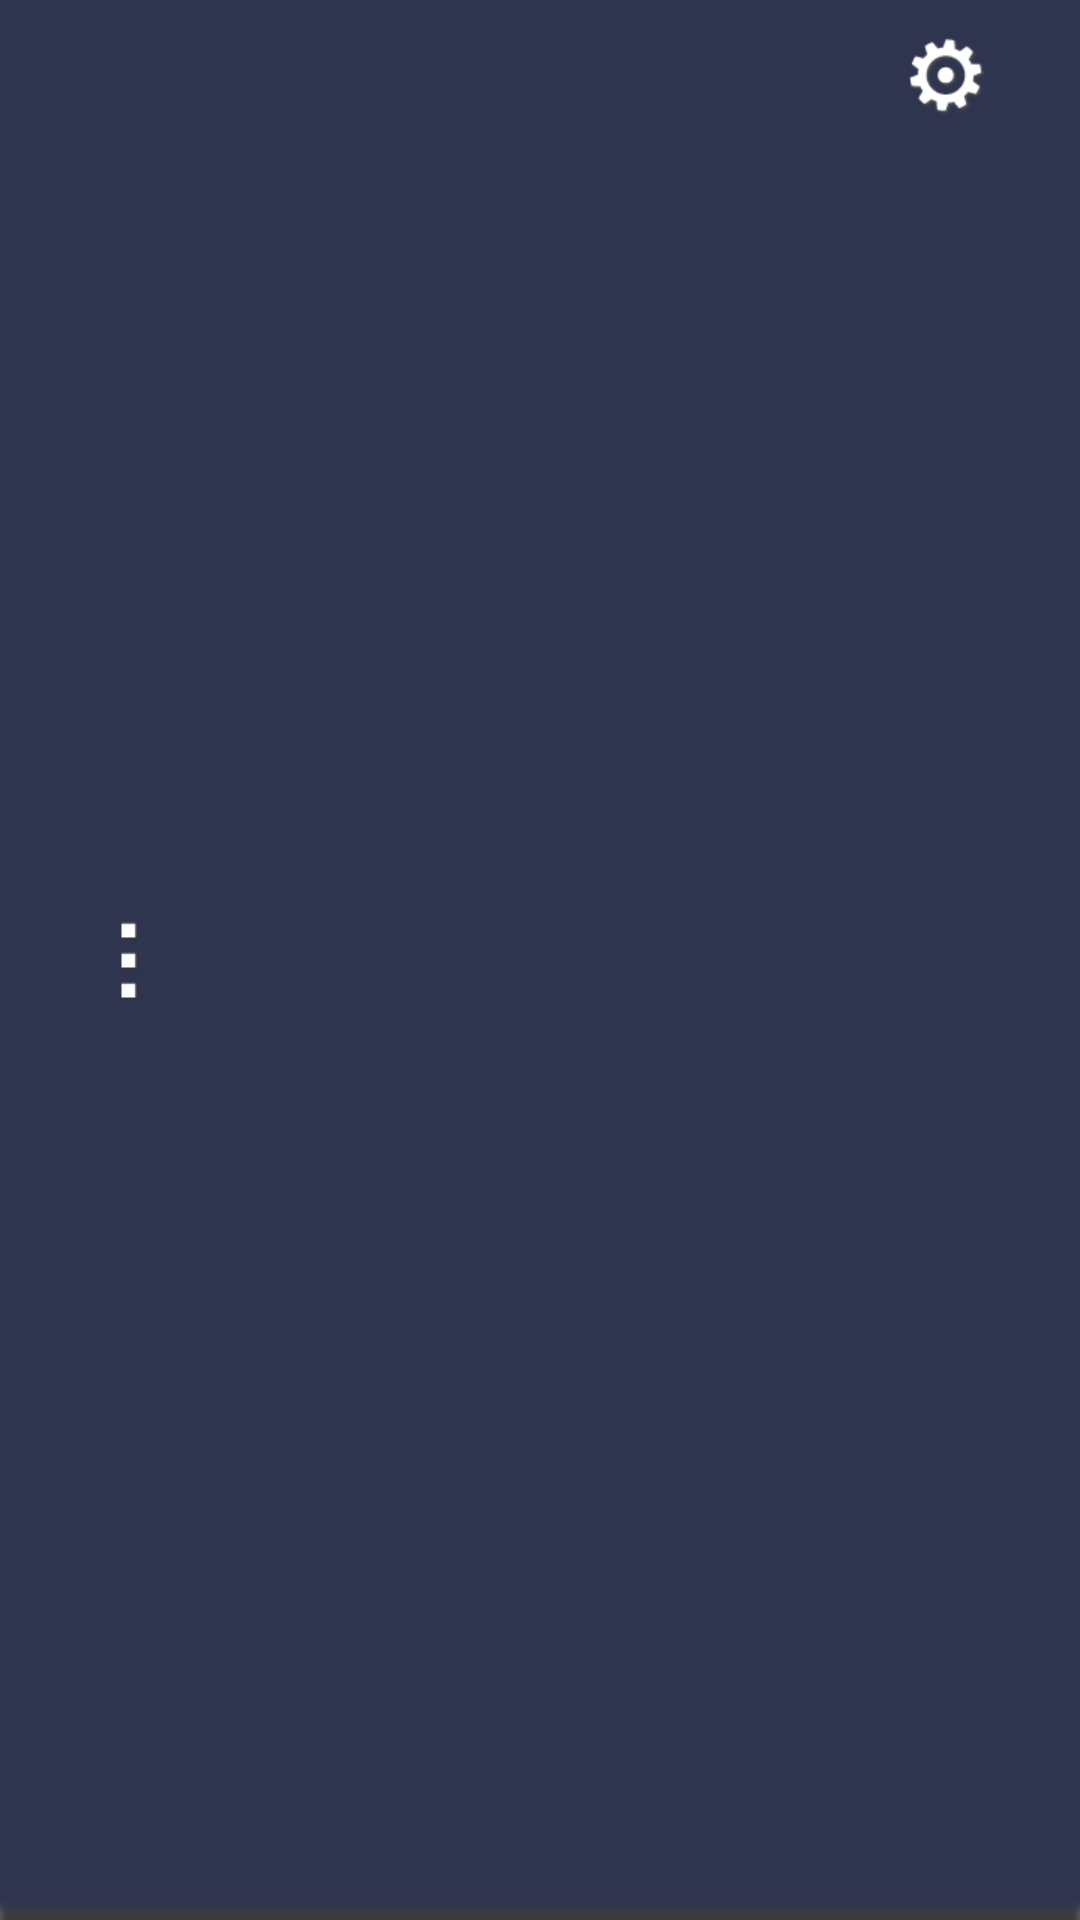

Locate icon controls on the screen. Image size 1080w x 1920h, boxes as region(x1, y1, x2, y2).
gearapp: region(909, 39, 983, 112)
moresymbolapp: region(121, 922, 137, 998)
